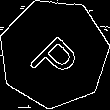P_NE: (23, 22, 85, 85)
